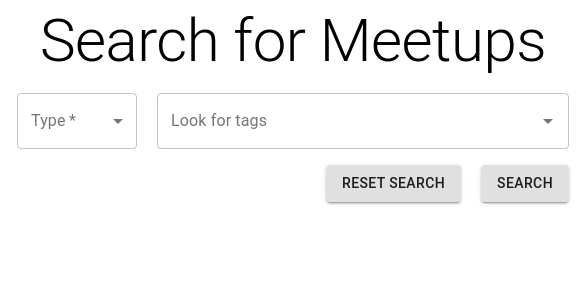
renders search bar and location select
This screenshot has width=587, height=294.
Expected: the field labelled "radius" is not shown
Select "In person" in the dropdown labelled "Type *" at (77, 121), box [17,93,137,149]
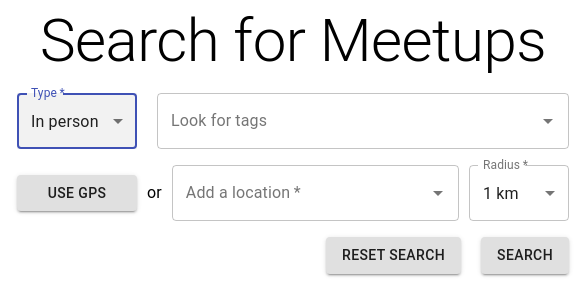
Expected: the dropdown labelled "Radius *" is shown, [469,165,569,221]
